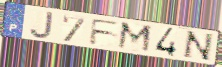4: (153, 26, 179, 59)
7: (61, 13, 87, 43)
F: (88, 18, 121, 46)
J: (28, 10, 54, 40)
M: (115, 21, 154, 55)
N: (181, 30, 216, 62)
